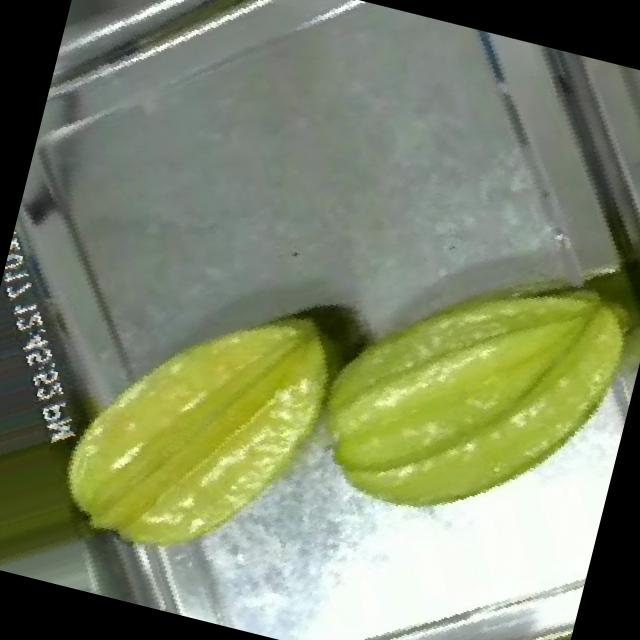fruit: (4, 203, 413, 633), (248, 153, 640, 595)
